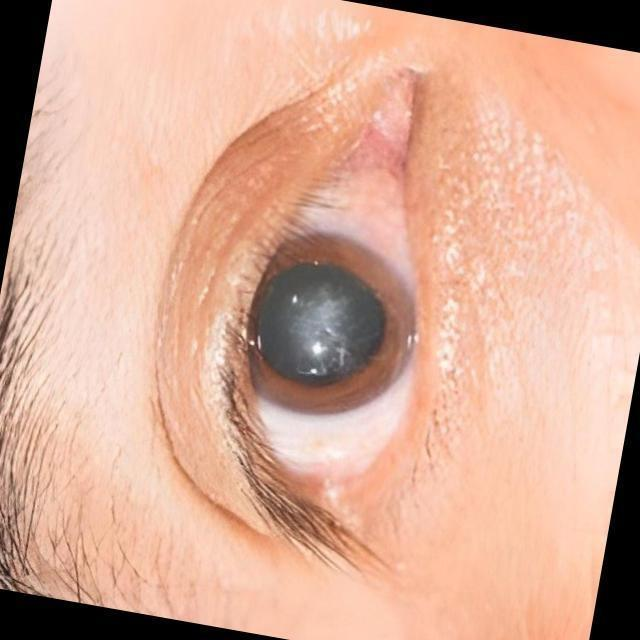Cataract: (227, 230, 435, 429)
